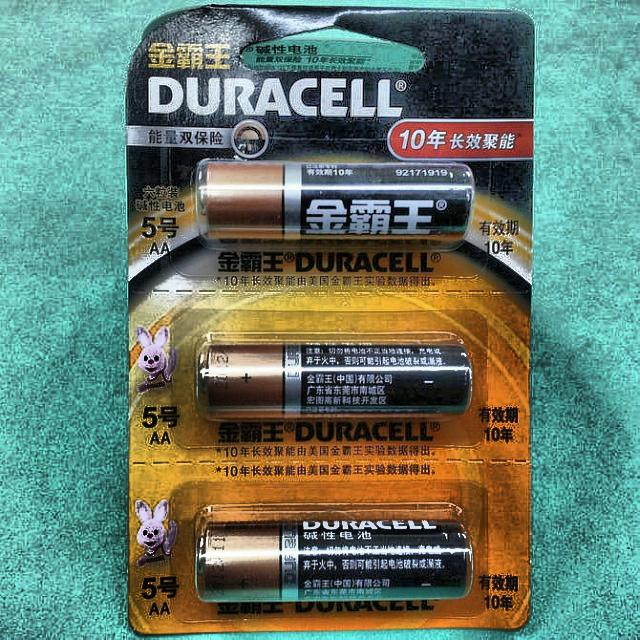Non-Valuable Waste - Batteries: (196, 509, 471, 602), (196, 160, 475, 246), (198, 342, 471, 416)
